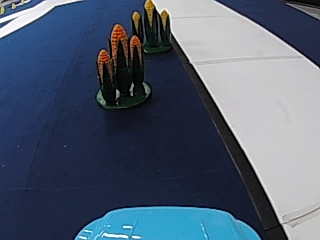corn: (91, 19, 151, 110), (131, 1, 176, 53)
